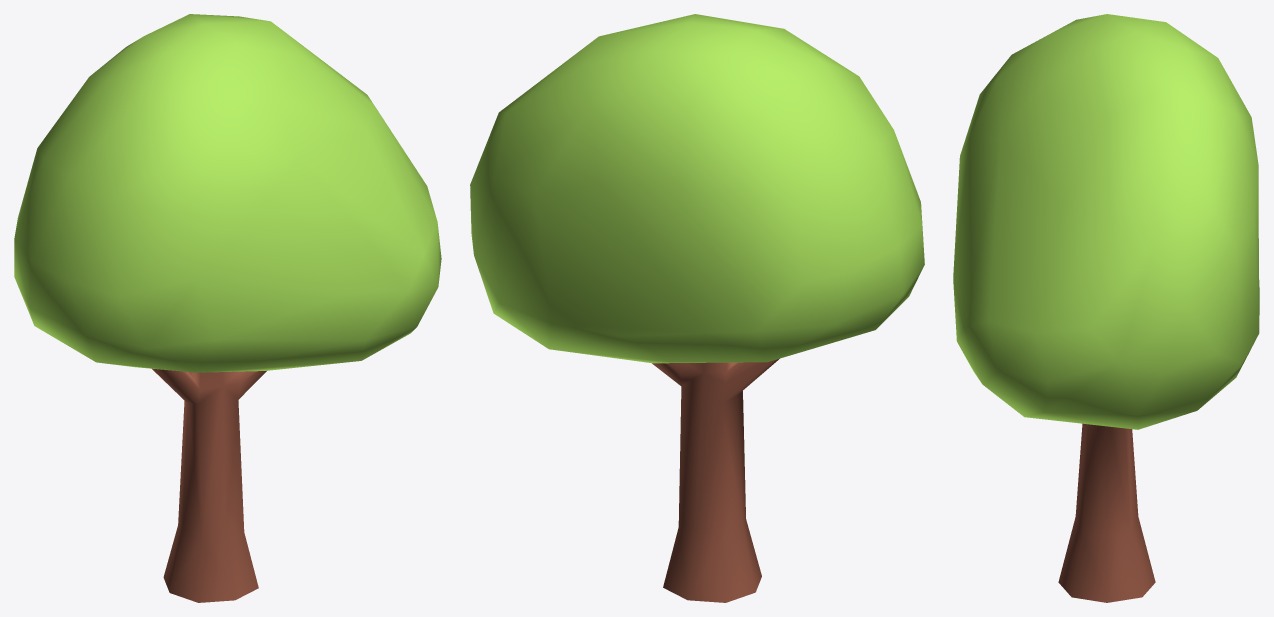
The model's file is tree4.gltf.
The picture shows the model from 3 angles, left to right: view 1: azimuth 30°, elevation 25°; view 2: azimuth 150°, elevation 25°; view 3: azimuth 270°, elevation 25°; orthographic projection. The views are drawn at different scales.
Parts seen in each view (by area): view 1: detail_treeA.001; view 2: detail_treeA.001; view 3: detail_treeA.001.
Part boxes in pixels (left/top/right/bottom): detail_treeA.001: left=14, top=14, right=441, bottom=602; detail_treeA.001: left=470, top=14, right=924, bottom=602; detail_treeA.001: left=953, top=14, right=1259, bottom=602.
Size of the model in its own units: 0.1187 by 0.1561 by 0.0783.
